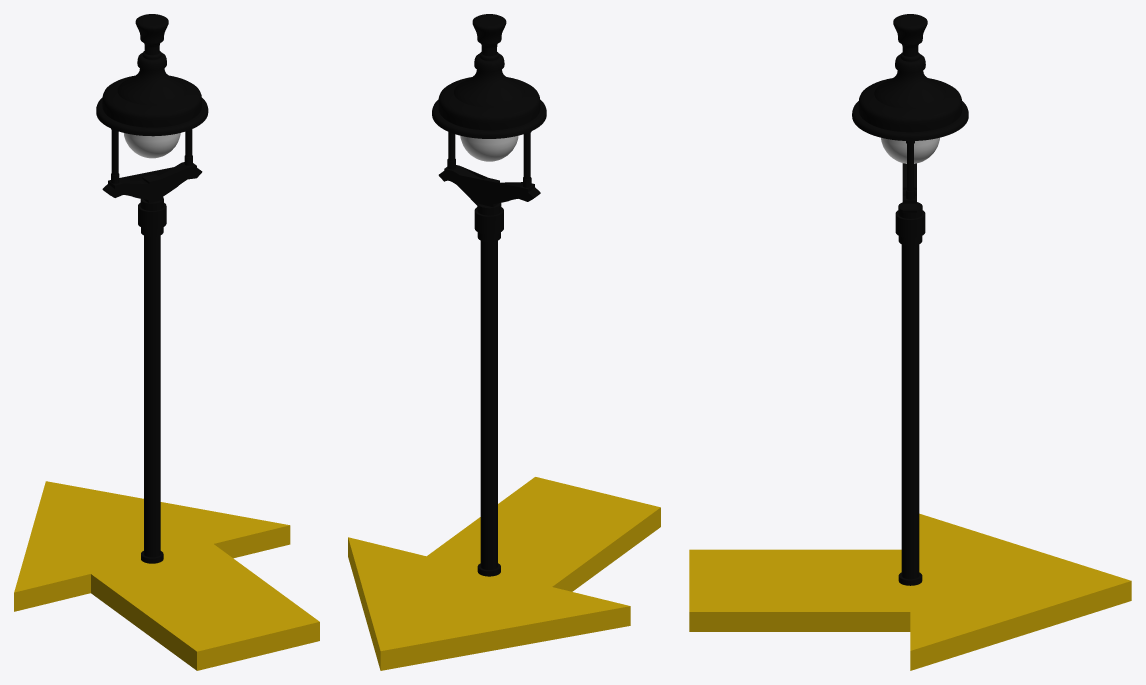
Rendered from street_lamp.obj.
3 views of the same model, side by side, from view 1: azimuth 30°, elevation 25°; view 2: azimuth 150°, elevation 25°; view 3: azimuth 270°, elevation 25° (orthographic). The views are drawn at different scales.
Visible parts, largest first — view 1: Arrow_Plane.001, street_lamp; view 2: Arrow_Plane.001, street_lamp; view 3: Arrow_Plane.001, street_lamp.
Boxes of the visible parts, box(x1,y1,x2,y2) form: Arrow_Plane.001: box(14, 481, 319, 670); street_lamp: box(96, 14, 208, 563); Arrow_Plane.001: box(348, 477, 660, 670); street_lamp: box(432, 14, 546, 576); Arrow_Plane.001: box(689, 513, 1131, 670); street_lamp: box(852, 14, 968, 585).
Bounding box in the file's own units: 1.5 × 2.9 × 2.
